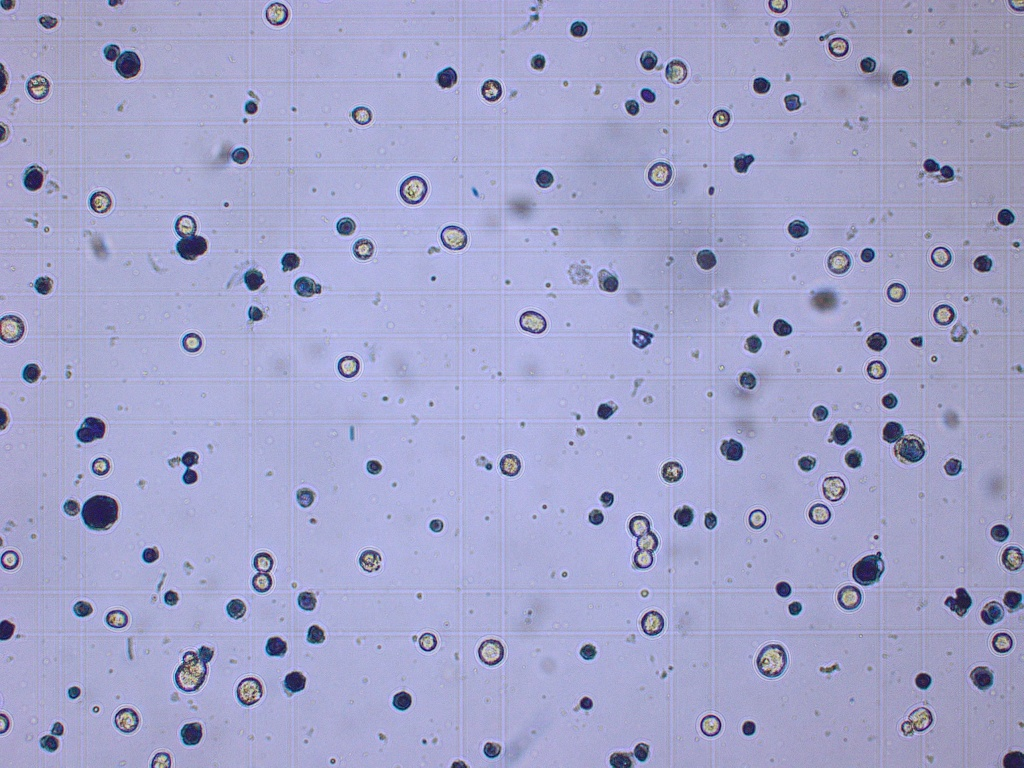Alive: (174, 660, 208, 690), (758, 645, 786, 677), (399, 177, 427, 203), (237, 677, 263, 705), (1, 313, 25, 342), (441, 225, 467, 250), (647, 162, 672, 188), (479, 640, 504, 666), (519, 311, 546, 333), (826, 250, 850, 274), (114, 707, 138, 731), (358, 549, 383, 572), (1001, 545, 1023, 571), (839, 585, 862, 609), (265, 1, 288, 25), (823, 476, 845, 501), (910, 706, 932, 731), (641, 611, 664, 634), (27, 76, 50, 98), (666, 60, 687, 84), (807, 503, 831, 524), (700, 714, 721, 737), (500, 454, 522, 475), (481, 79, 503, 100), (337, 355, 358, 377), (353, 238, 374, 260), (992, 633, 1013, 654), (662, 462, 683, 483), (175, 215, 196, 236), (932, 304, 954, 324), (106, 609, 128, 629), (930, 247, 951, 266), (182, 333, 203, 352), (89, 191, 110, 210), (829, 36, 848, 56), (748, 509, 767, 529), (629, 514, 648, 534), (865, 361, 886, 379), (351, 106, 372, 124), (636, 533, 659, 549), (886, 283, 905, 302), (634, 549, 652, 569), (1, 549, 19, 569), (712, 109, 730, 127), (255, 552, 272, 571), (150, 751, 169, 768), (92, 458, 110, 475), (254, 573, 271, 591), (418, 634, 437, 650), (767, 1, 789, 13), (1, 712, 11, 734), (1007, 1, 1024, 11)
Dead: (81, 495, 118, 529), (853, 554, 884, 583), (945, 588, 970, 617), (175, 238, 207, 260), (115, 51, 140, 78), (980, 601, 1003, 624), (901, 439, 925, 460), (719, 440, 743, 461), (882, 422, 904, 443), (970, 668, 992, 689), (181, 722, 202, 744), (294, 277, 317, 297), (285, 671, 306, 692), (734, 152, 755, 172), (696, 248, 716, 269), (632, 328, 653, 348), (436, 68, 457, 88), (243, 270, 264, 290), (265, 637, 287, 656), (673, 506, 693, 526), (24, 169, 43, 190), (85, 416, 106, 435), (832, 424, 850, 446), (535, 170, 555, 189), (297, 591, 317, 610), (306, 624, 325, 644), (788, 220, 809, 238), (227, 598, 245, 619), (866, 333, 888, 350), (1002, 751, 1024, 768), (609, 752, 632, 768), (281, 253, 300, 272), (772, 319, 792, 337), (393, 691, 411, 711), (973, 254, 992, 272), (336, 218, 355, 236), (295, 487, 313, 506), (640, 51, 657, 71), (230, 148, 250, 165), (33, 277, 53, 294), (23, 362, 40, 382), (39, 736, 60, 752), (783, 93, 801, 111), (845, 450, 863, 468), (745, 335, 762, 354), (943, 458, 961, 475), (1003, 590, 1021, 607), (996, 208, 1015, 224), (73, 601, 93, 616), (752, 77, 769, 94), (991, 524, 1008, 541), (880, 392, 898, 408), (1, 618, 14, 640), (39, 14, 58, 29), (892, 70, 908, 87), (580, 643, 596, 660), (739, 372, 755, 389), (102, 43, 118, 60), (482, 742, 500, 757), (596, 403, 612, 419), (366, 458, 382, 474), (797, 456, 814, 471), (77, 427, 95, 441), (143, 548, 161, 562), (860, 57, 876, 72), (775, 581, 790, 597), (916, 673, 931, 689), (634, 743, 649, 759), (570, 22, 586, 37), (64, 498, 79, 514), (923, 157, 938, 172), (813, 405, 828, 420), (788, 601, 803, 616), (589, 510, 604, 525), (603, 277, 618, 292), (625, 99, 639, 115), (164, 590, 178, 606), (181, 452, 198, 465), (532, 54, 546, 69), (247, 305, 261, 320), (51, 721, 65, 736), (198, 645, 213, 659), (600, 491, 613, 507), (704, 510, 715, 528), (183, 469, 197, 483), (940, 163, 953, 178), (774, 21, 789, 34), (743, 720, 756, 735), (640, 88, 655, 101), (861, 248, 875, 261), (244, 101, 257, 114), (579, 697, 593, 709), (429, 519, 443, 531), (66, 686, 80, 698)
